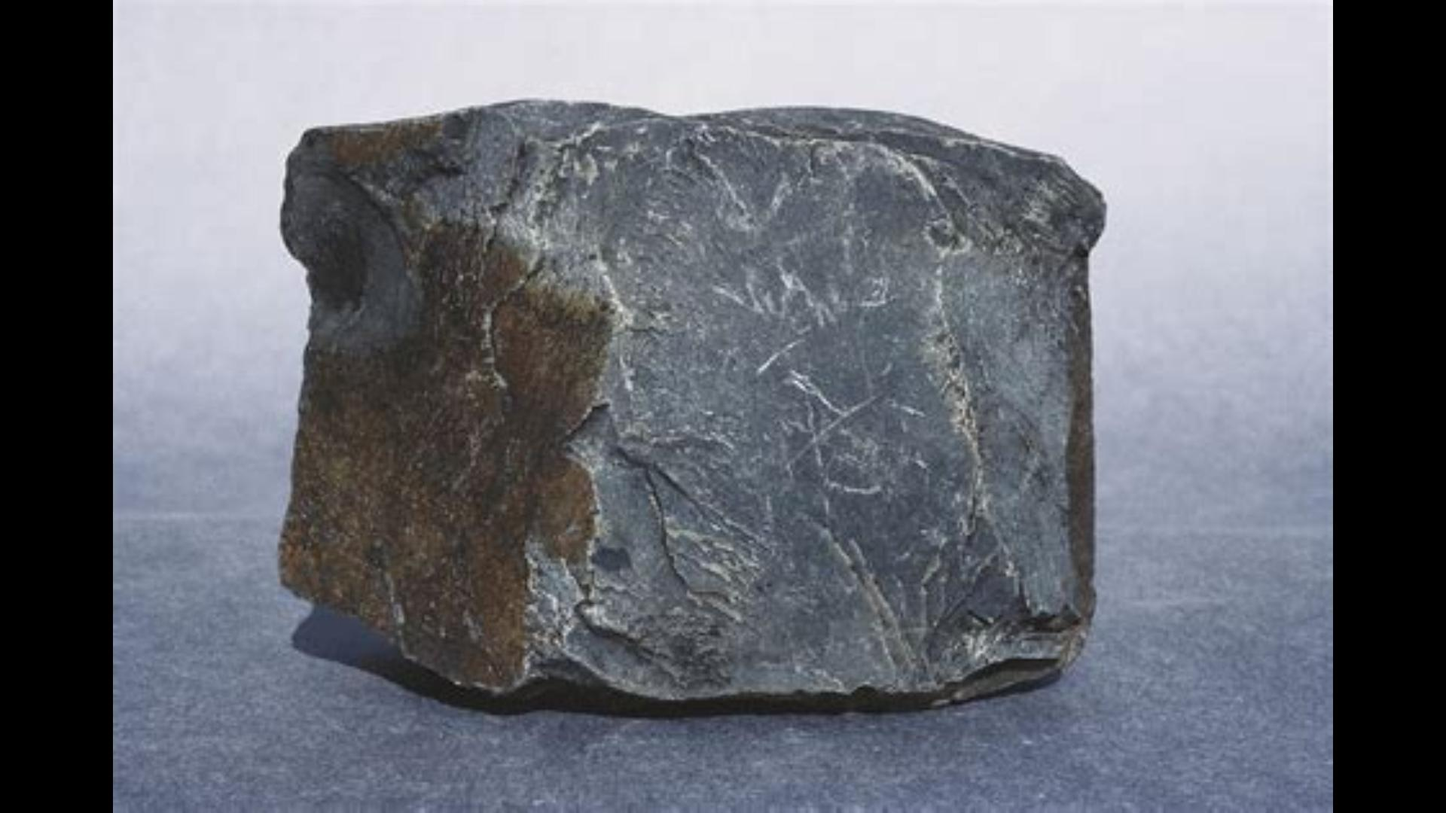rock: (280, 103, 1101, 702)
